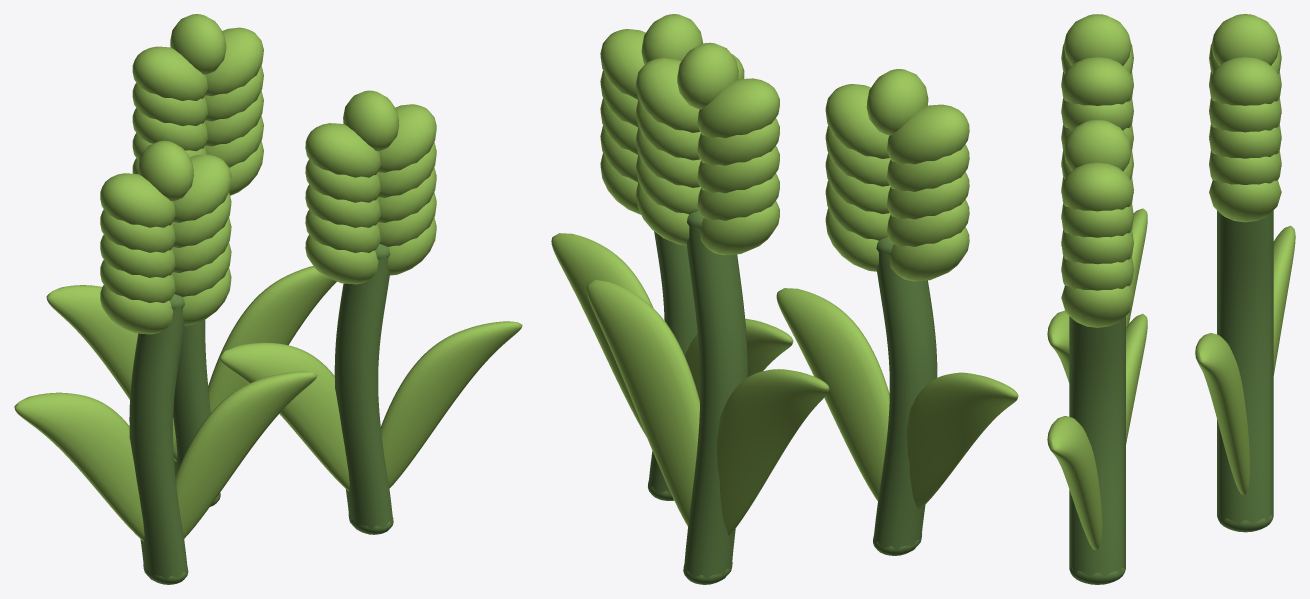
File: crop_1_stage_2.fbx
The picture shows the model from 3 angles, left to right: view 1: azimuth 30°, elevation 25°; view 2: azimuth 150°, elevation 25°; view 3: azimuth 270°, elevation 25°; orthographic projection. The views are drawn at different scales.
Visible parts, largest first — view 1: crop_1_stage_2; view 2: crop_1_stage_2; view 3: crop_1_stage_2.
Part boxes in pixels (bbox=[...]): crop_1_stage_2: bbox=[14, 14, 522, 584]; crop_1_stage_2: bbox=[551, 14, 1018, 584]; crop_1_stage_2: bbox=[1047, 14, 1295, 584].
Size of the model in its own units: 0.52 by 0.52 by 0.228.
Materials: 1 (1 with a texture image).
